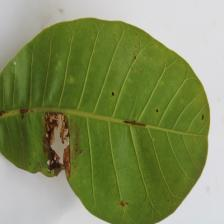leaf miner: (0, 16, 211, 224)
